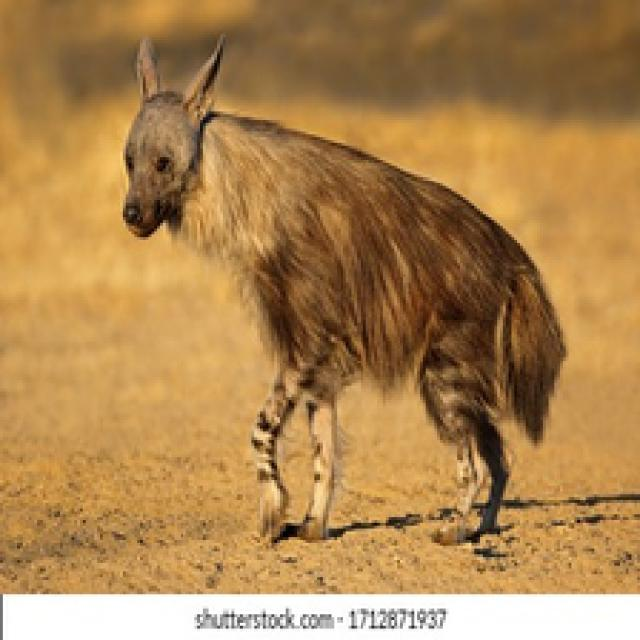hyena: (99, 23, 579, 564)
